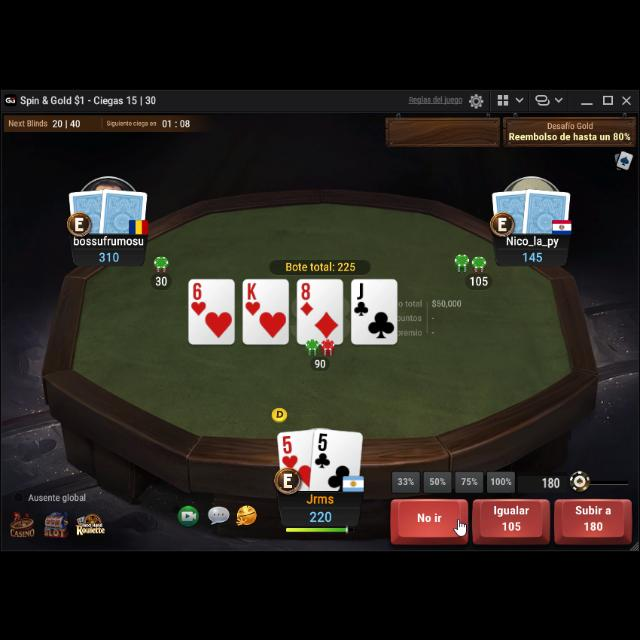5c: (314, 429, 332, 468)
5h: (282, 435, 300, 469)
6h: (192, 282, 208, 314)
8d: (300, 282, 314, 316)
Jc: (352, 281, 372, 317)
Kh: (245, 281, 261, 315)
bet_text: (468, 272, 489, 286), (312, 356, 328, 368)
card_back: (521, 185, 573, 235), (98, 185, 148, 235), (66, 186, 110, 234), (490, 186, 534, 234)
dealer: (269, 402, 289, 423)
hero_active: (390, 496, 632, 544)
pot_text: (285, 260, 357, 270)
stack_text: (307, 504, 333, 524), (98, 248, 120, 262), (522, 248, 544, 262)
